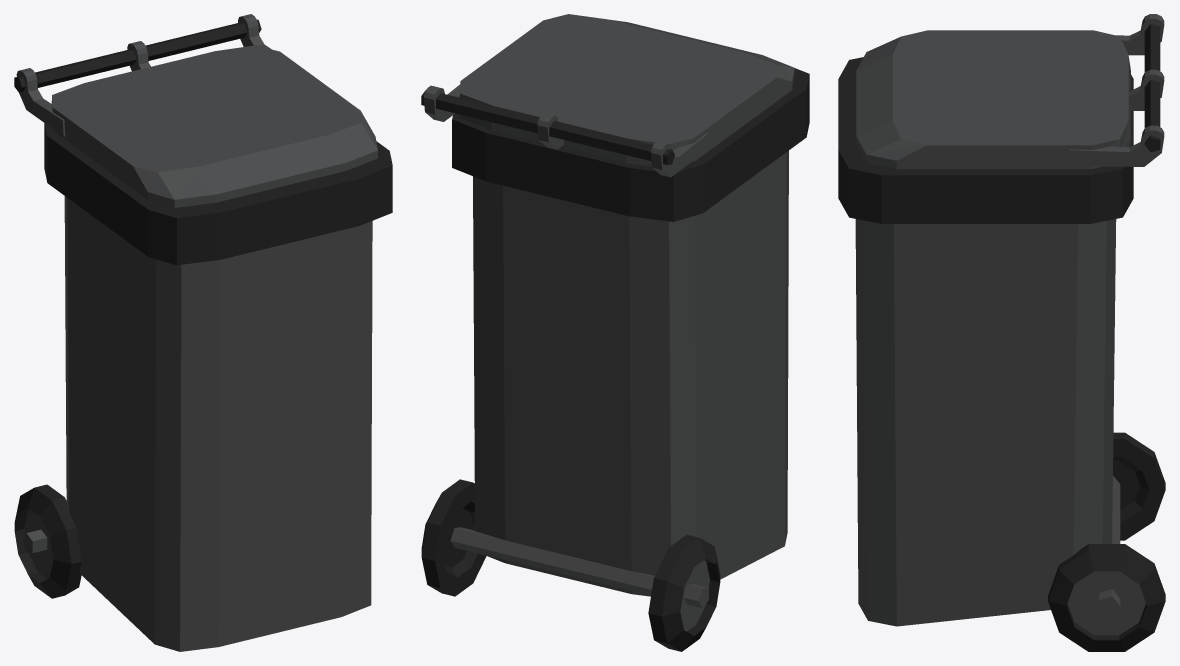
Rendered from SM_garbagecan_02.fbx.
3 views of the same model, side by side, from view 1: azimuth 30°, elevation 25°; view 2: azimuth 150°, elevation 25°; view 3: azimuth 270°, elevation 25° (orthographic). The views are drawn at different scales.
Visible parts, largest first — view 1: Object157; view 2: Object157; view 3: Object157.
Part boxes in pixels (x1=…): Object157: x1=14, y1=14, x2=392, y2=651; Object157: x1=421, y1=14, x2=809, y2=651; Object157: x1=838, y1=14, x2=1165, y2=651.
Size of the model in its own units: 29.02 by 53.34 by 30.4.
